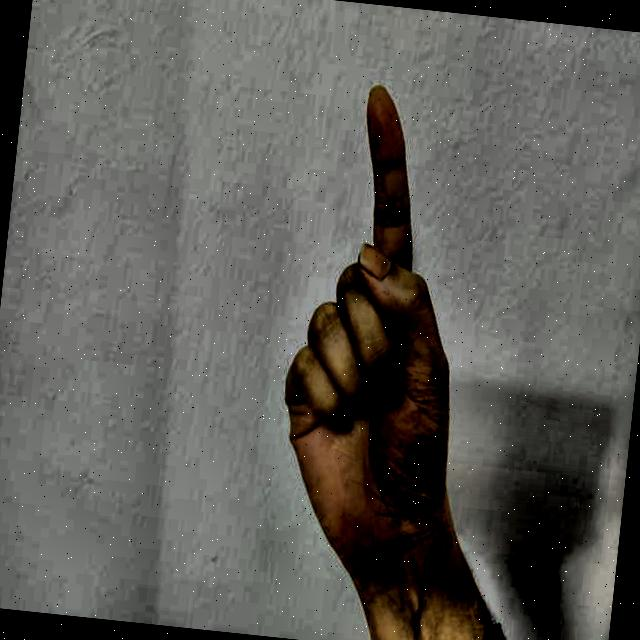U: (234, 42, 542, 581)
